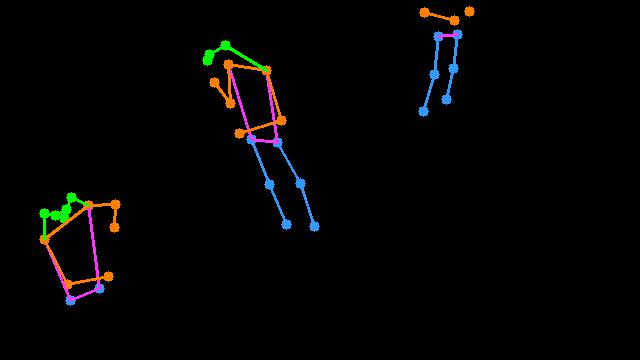normal: (188, 36, 322, 243), (28, 184, 136, 312)
